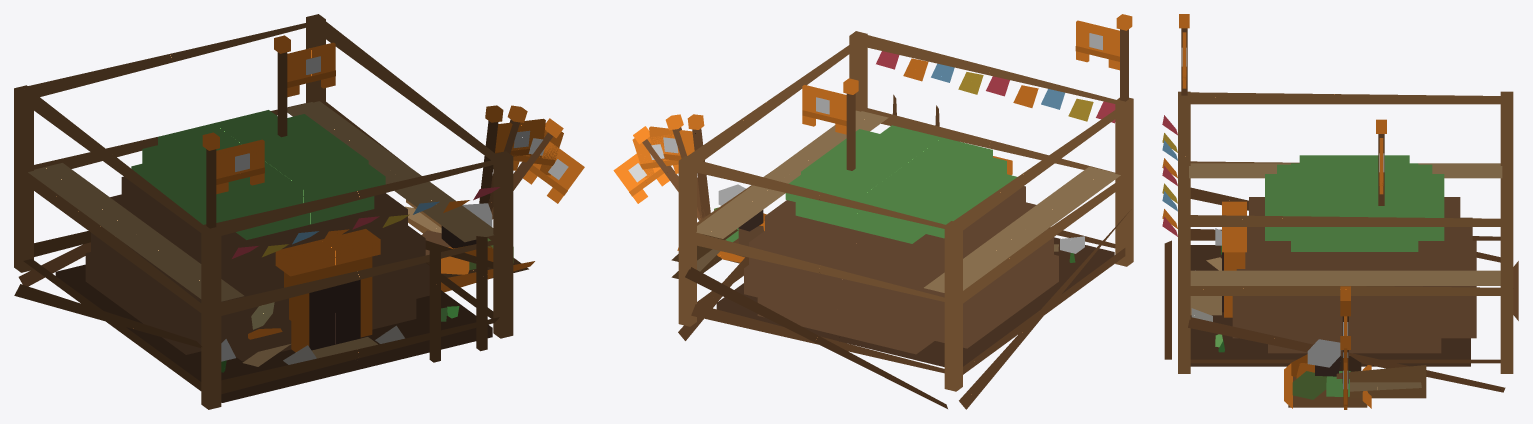
File: bumblebee-home_lod1.glb
The picture shows the model from 3 angles, left to right: view 1: azimuth 30°, elevation 25°; view 2: azimuth 150°, elevation 25°; view 3: azimuth 270°, elevation 25°; orthographic projection. The views are drawn at different scales.
Parts seen in each view (by area): view 1: scaffold-mesh, built-mesh, dismantle-50-mesh, dismantle-75-mesh, dismantle-25-mesh, banner, scaffold-banner, dismantle-25-banner, dismantle-75-banner, flag-pole, scaffold-flag-pole, dismantle-75-flag-pole (+3 smaller); view 2: scaffold-mesh, built-mesh, dismantle-50-mesh, dismantle-75-mesh, banner, scaffold-banner, dismantle-25-banner, dismantle-25-mesh, flag-pole, dismantle-75-banner, dismantle-50-banner, scaffold-flag-pole (+3 smaller); view 3: scaffold-mesh, built-mesh, dismantle-50-mesh, dismantle-75-mesh, dismantle-25-mesh, flag-pole, scaffold-flag-pole.
Part boxes in pixels (x1,y1,x2,y2): scaffold-mesh: (14, 14, 513, 409); built-mesh: (121, 110, 407, 371); dismantle-50-mesh: (85, 230, 528, 402); dismantle-75-mesh: (86, 187, 534, 354); dismantle-25-mesh: (85, 203, 513, 360); banner: (287, 42, 335, 97); scaffold-banner: (216, 139, 264, 194); dismantle-25-banner: (523, 141, 584, 203); dismantle-75-banner: (495, 118, 545, 158); flag-pole: (274, 35, 290, 137); scaffold-flag-pole: (202, 132, 219, 228); dismantle-75-flag-pole: (479, 105, 503, 203); scaffold-mesh: (671, 31, 1133, 409); built-mesh: (777, 125, 1072, 277); dismantle-50-mesh: (714, 207, 1113, 354); dismantle-75-mesh: (677, 196, 1075, 366); banner: (802, 85, 846, 134); scaffold-banner: (1075, 20, 1119, 70); dismantle-25-banner: (613, 153, 669, 203); dismantle-25-mesh: (718, 184, 1073, 352); flag-pole: (843, 78, 858, 170); dismantle-75-banner: (649, 126, 694, 162); dismantle-50-banner: (632, 134, 679, 177); scaffold-flag-pole: (1116, 14, 1132, 101); scaffold-mesh: (1162, 91, 1518, 398); built-mesh: (1216, 155, 1460, 352); dismantle-50-mesh: (1190, 228, 1472, 407); dismantle-75-mesh: (1215, 240, 1476, 408); dismantle-25-mesh: (1291, 339, 1349, 399); flag-pole: (1376, 119, 1386, 205); scaffold-flag-pole: (1179, 14, 1189, 95).
Size of the model in its own units: 2.65 by 1.55 by 1.99.
